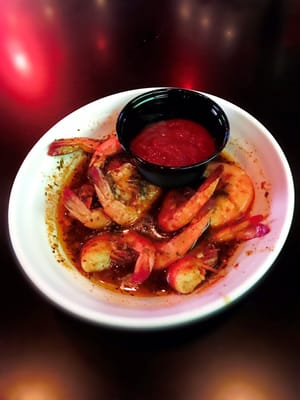sushi: (115, 87, 231, 188)
